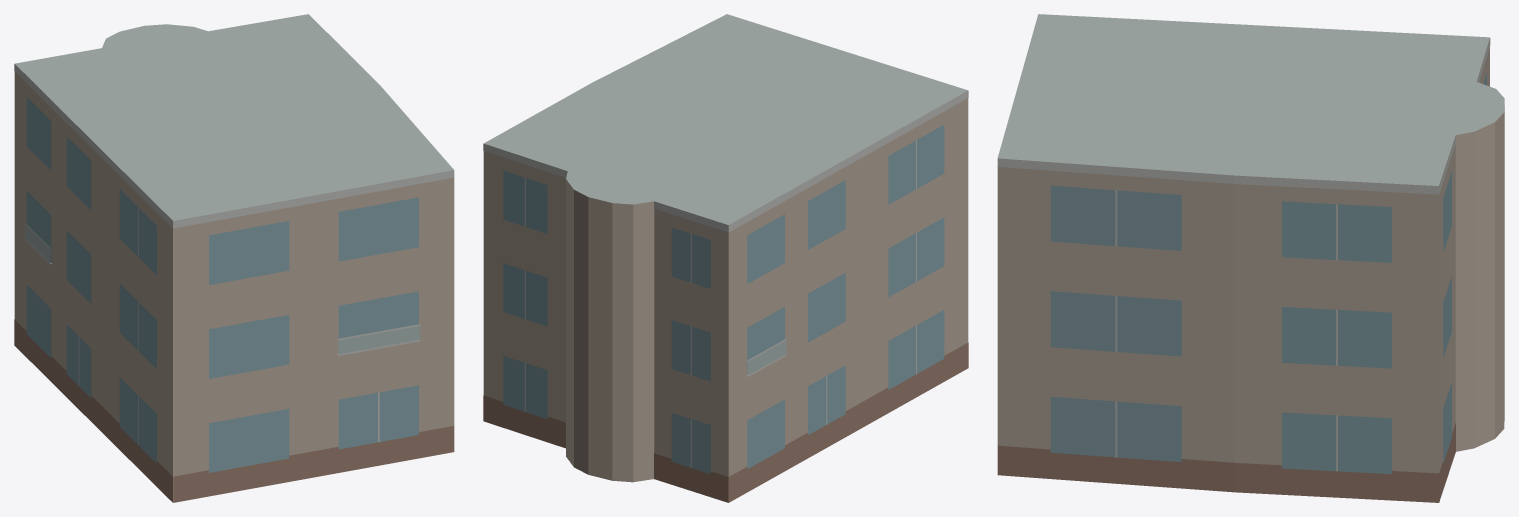
File: survey-upis-32813212.glb
3 renders of one model, left to right at view 1: azimuth 30°, elevation 25°; view 2: azimuth 150°, elevation 25°; view 3: azimuth 270°, elevation 25°, orthographic. The views are drawn at different scales.
Visible parts, largest first — view 1: survey-upis-32813212.tmp; view 2: survey-upis-32813212.tmp; view 3: survey-upis-32813212.tmp.
Part boxes in pixels (<box>): survey-upis-32813212.tmp: <box>14,14,454,502</box>; survey-upis-32813212.tmp: <box>483,14,968,502</box>; survey-upis-32813212.tmp: <box>997,14,1504,502</box>.
Size of the model in its own units: 10.67 by 9.15 by 13.28.
